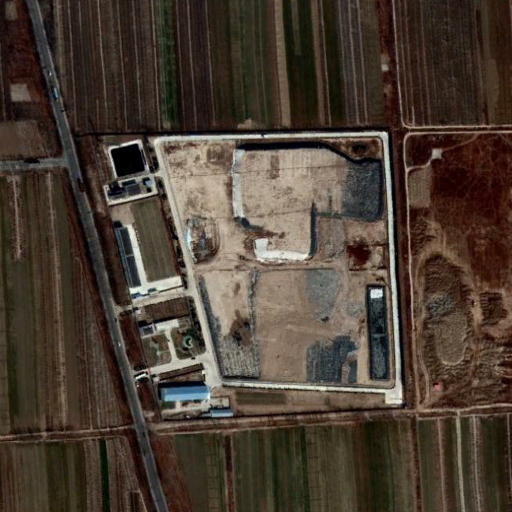lf: (157, 126, 396, 393)
